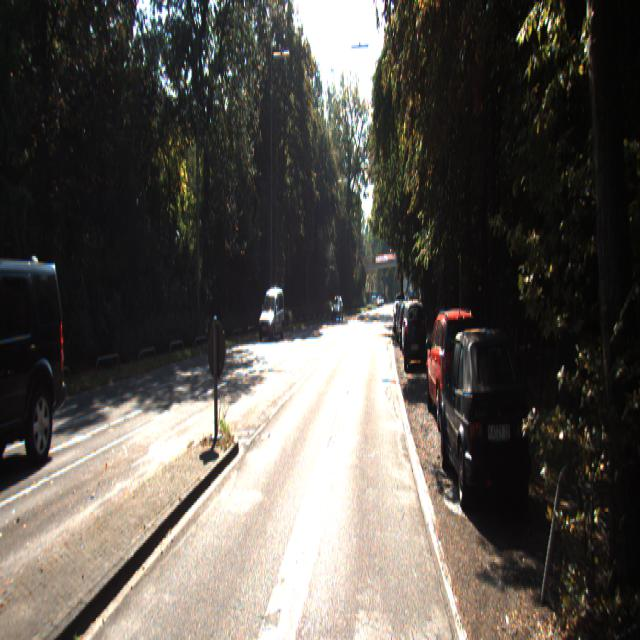Car: (440, 323, 537, 525), (0, 254, 72, 483), (425, 304, 485, 436), (403, 299, 426, 370), (258, 286, 286, 344), (402, 299, 424, 358), (399, 303, 415, 351)
